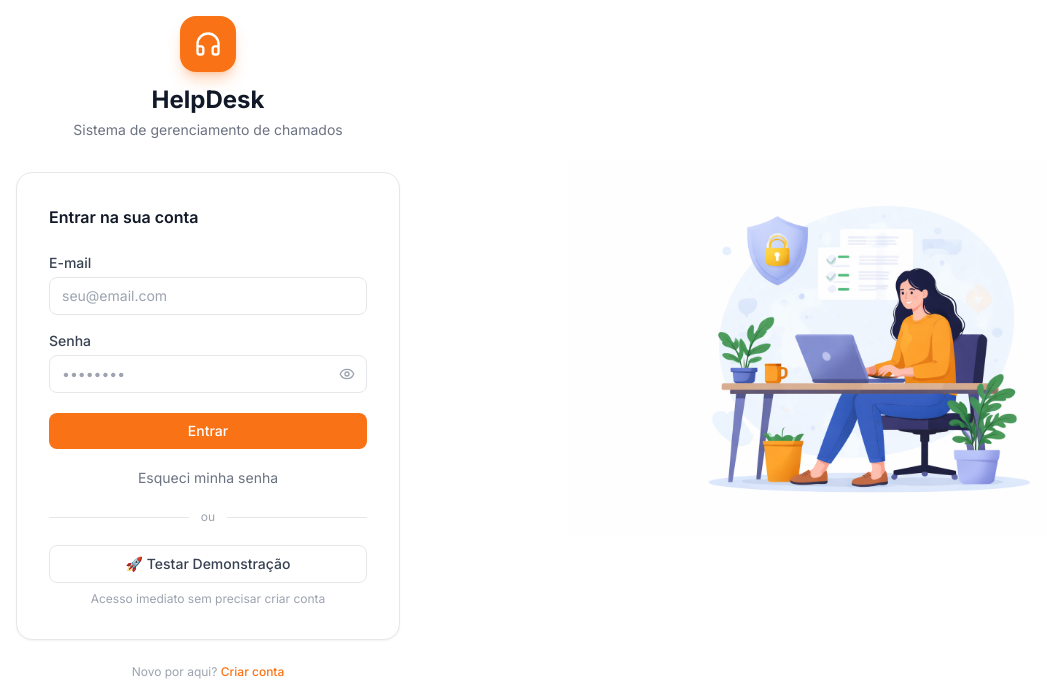
LoginPage (smoke) › alterna para o formulário de recuperação ao clicar em 'Esqueci minha senha'
Click the button "Esqueci minha senha". click: x=208, y=478
box: left=138, top=468, right=278, bottom=488
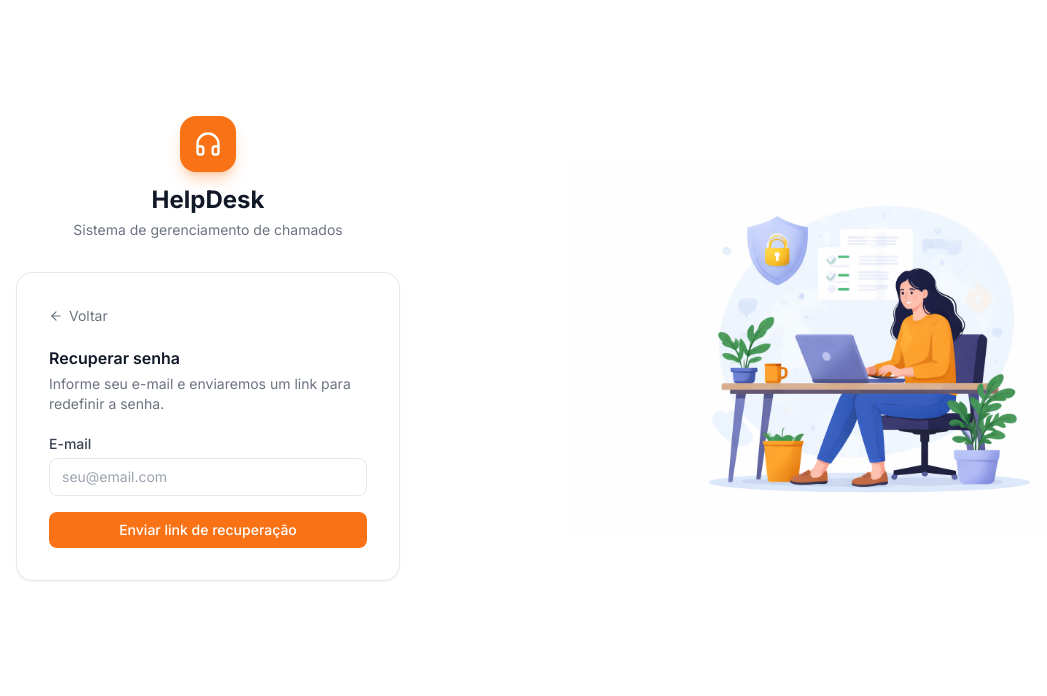
Result: the heading "Recuperar senha" is shown at left=49, top=348, right=180, bottom=368
